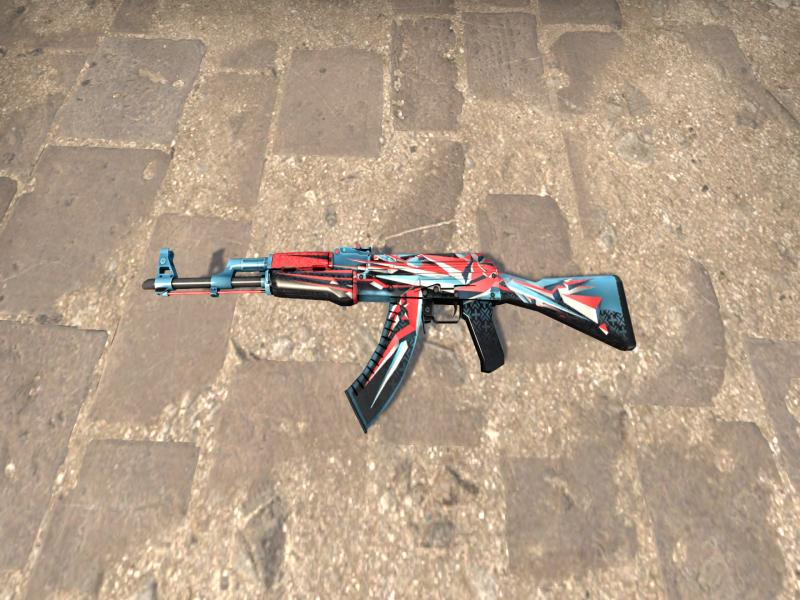AK47: (142, 245, 637, 431)
